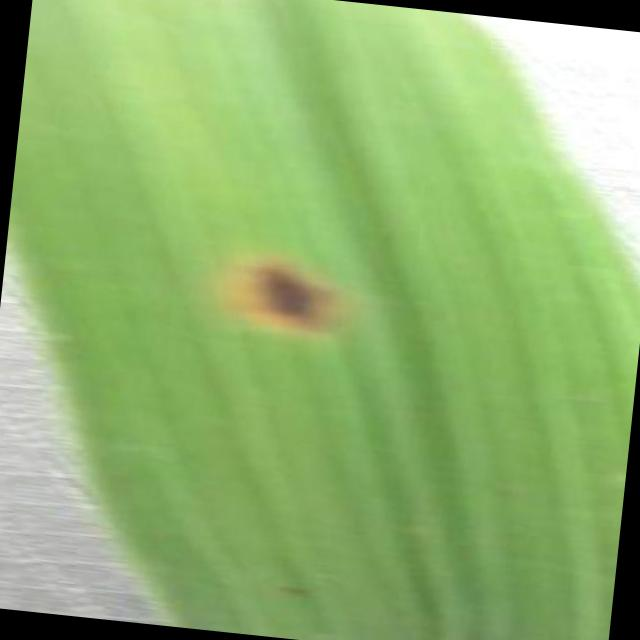Rice_Brownspot: (215, 230, 361, 354), (262, 567, 324, 614)
